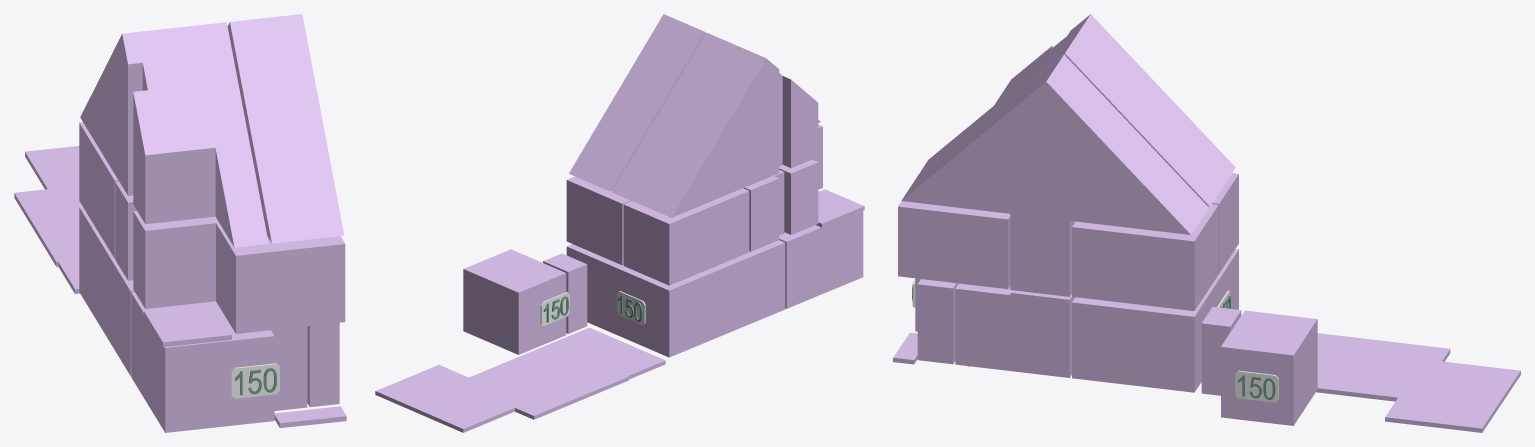
3 renders of one model, left to right at view 1: azimuth 30°, elevation 25°; view 2: azimuth 150°, elevation 25°; view 3: azimuth 270°, elevation 25°, orthographic. The views are drawn at different scales.
Parts seen in each view (by area): view 1: g_6, g_11, g_7, g_1, g_15, g_0, g_10, g_16, g_5, g_2, g_8, g_13 (+2 smaller); view 2: g_6, g_15, g_0, g_10, g_3, g_7, g_1, g_9, g_11, g_13, g_4, g_16 (+3 smaller); view 3: g_7, g_15, g_6, g_0, g_9, g_2, g_3, g_11, g_8, g_14, g_5, g_4 (+2 smaller).
Part boxes in pixels (left/top/right/bottom): g_6: left=80, top=22, right=268, bottom=247; g_11: left=133, top=210, right=345, bottom=333; g_7: left=227, top=18, right=344, bottom=243; g_1: left=131, top=292, right=274, bottom=432; g_15: left=14, top=146, right=82, bottom=293; g_0: left=79, top=206, right=134, bottom=375; g_10: left=79, top=122, right=118, bottom=258; g_16: left=144, top=304, right=231, bottom=347; g_5: left=307, top=322, right=339, bottom=407; g_2: left=271, top=326, right=307, bottom=410; g_8: left=267, top=14, right=312, bottom=72; g_13: left=115, top=181, right=136, bottom=280; g_6: left=612, top=33, right=820, bottom=217; g_15: left=375, top=327, right=665, bottom=432; g_0: left=566, top=240, right=785, bottom=357; g_10: left=623, top=188, right=749, bottom=285; g_3: left=463, top=249, right=566, bottom=354; g_7: left=569, top=22, right=705, bottom=191; g_1: left=779, top=191, right=863, bottom=308; g_9: left=566, top=176, right=631, bottom=265; g_11: left=779, top=124, right=822, bottom=234; g_13: left=743, top=170, right=784, bottom=251; g_4: left=543, top=253, right=587, bottom=333; g_16: left=816, top=189, right=864, bottom=227; g_7: left=901, top=54, right=1208, bottom=234; g_15: left=1316, top=333, right=1520, bottom=432; g_6: left=920, top=14, right=1235, bottom=206; g_0: left=1072, top=249, right=1238, bottom=392; g_9: left=1072, top=204, right=1218, bottom=310; g_2: left=955, top=283, right=1075, bottom=377; g_3: left=1221, top=310, right=1317, bottom=425; g_11: left=898, top=201, right=1010, bottom=289; g_8: left=1010, top=69, right=1077, bottom=221; g_14: left=1010, top=214, right=1075, bottom=296; g_5: left=917, top=279, right=958, bottom=364; g_4: left=1201, top=306, right=1241, bottom=395.
Size of the model in its own units: 10.22 by 10.25 by 19.54.
